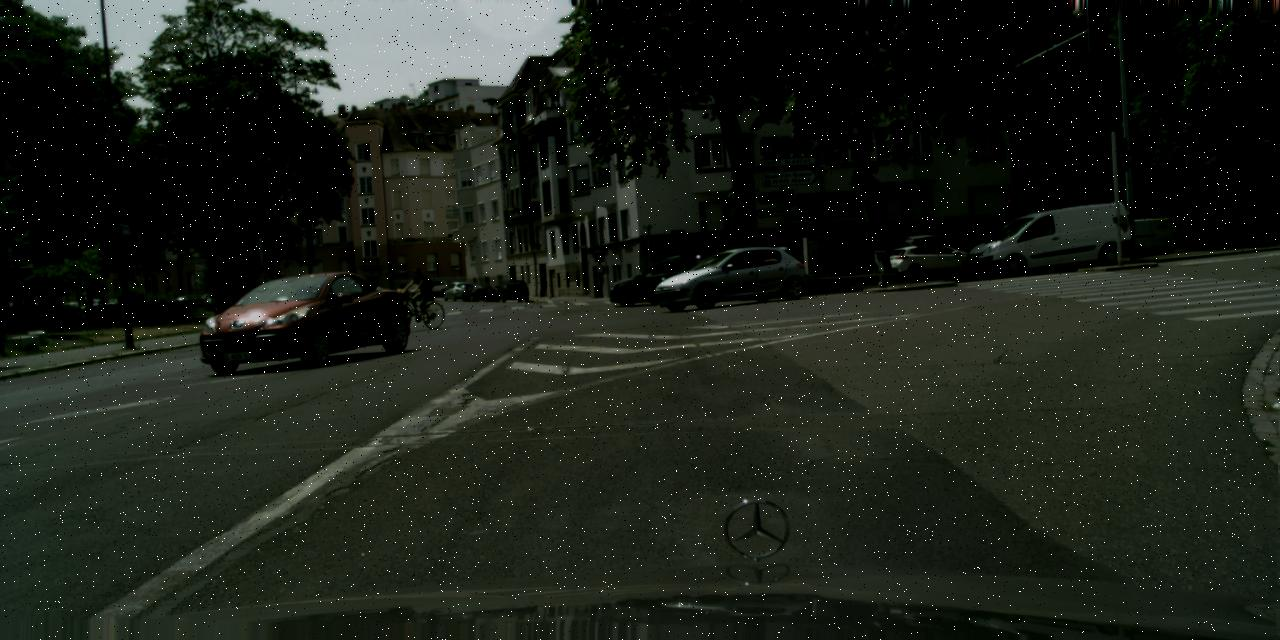ped: (408, 268, 429, 318)
